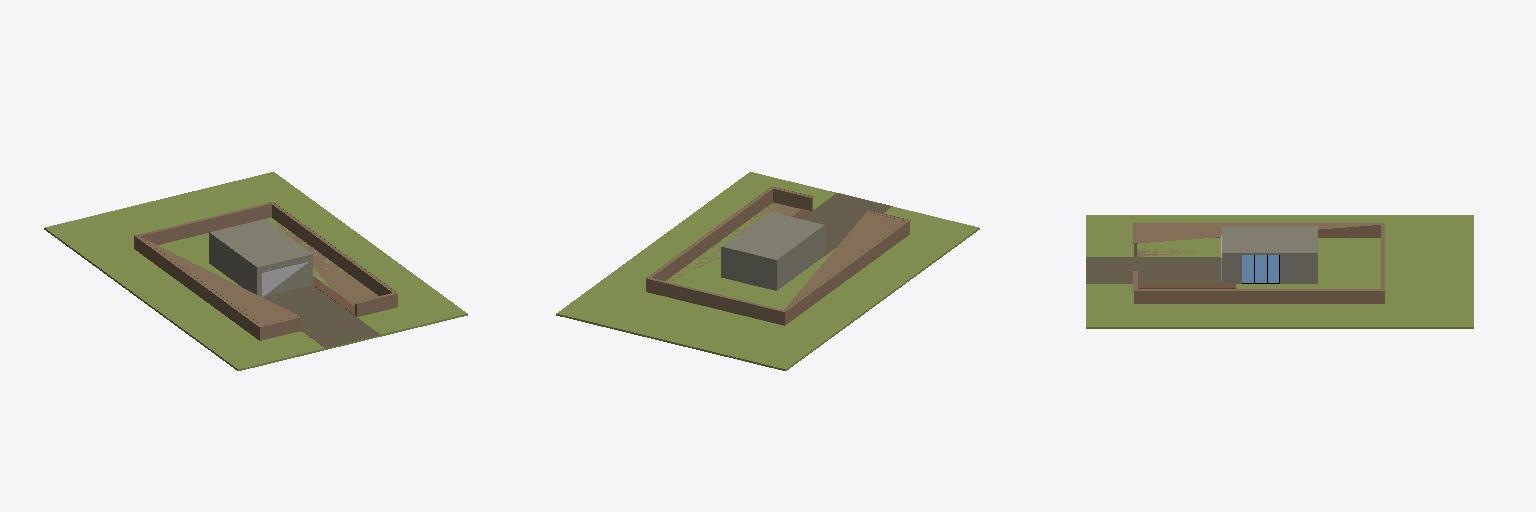
Rendered from garage.obj.
3 renders of one model, left to right at view 1: azimuth 30°, elevation 25°; view 2: azimuth 150°, elevation 25°; view 3: azimuth 270°, elevation 25°, orthographic.
Parts seen in each view (by area): view 1: Mesh8 Group8 Model, Mesh9 Group9 Model, Mesh27 Group32 Model, Mesh26 Group31 Model, Mesh5 Group6 Group1 Model, Mesh4 Group5 Group1 Model, Mesh7 Garage_door1 Group1 Model; view 2: Mesh8 Group8 Model, Mesh9 Group9 Model, Mesh27 Group32 Model, Mesh4 Group5 Group1 Model, Mesh5 Group6 Group1 Model, Mesh26 Group31 Model; view 3: Mesh8 Group8 Model, Mesh27 Group32 Model, Mesh26 Group31 Model, Mesh9 Group9 Model, Mesh5 Group6 Group1 Model, Mesh4 Group5 Group1 Model, Mesh25 Group30 Model.
Part boxes in pixels (x1,y1,x2,y2): Mesh8 Group8 Model: (44,172,467,370); Mesh9 Group9 Model: (134,203,301,340); Mesh27 Group32 Model: (269,202,398,316); Mesh26 Group31 Model: (262,285,380,347); Mesh5 Group6 Group1 Model: (209,219,312,268); Mesh4 Group5 Group1 Model: (209,234,312,296); Mesh7 Garage_door1 Group1 Model: (262,262,307,296); Mesh8 Group8 Model: (556,172,979,370); Mesh9 Group9 Model: (650,210,910,325); Mesh27 Group32 Model: (646,186,813,292); Mesh4 Group5 Group1 Model: (721,227,824,290); Mesh5 Group6 Group1 Model: (721,211,824,261); Mesh26 Group31 Model: (802,193,892,255); Mesh8 Group8 Model: (1086,215,1473,328); Mesh27 Group32 Model: (1133,270,1384,303); Mesh26 Group31 Model: (1086,257,1221,283); Mesh9 Group9 Model: (1133,223,1384,288); Mesh5 Group6 Group1 Model: (1222,226,1317,254); Mesh4 Group5 Group1 Model: (1222,255,1317,283); Mesh25 Group30 Model: (1138,283,1235,288).
Size of the model in its own units: 24842 by 3420 by 36350.